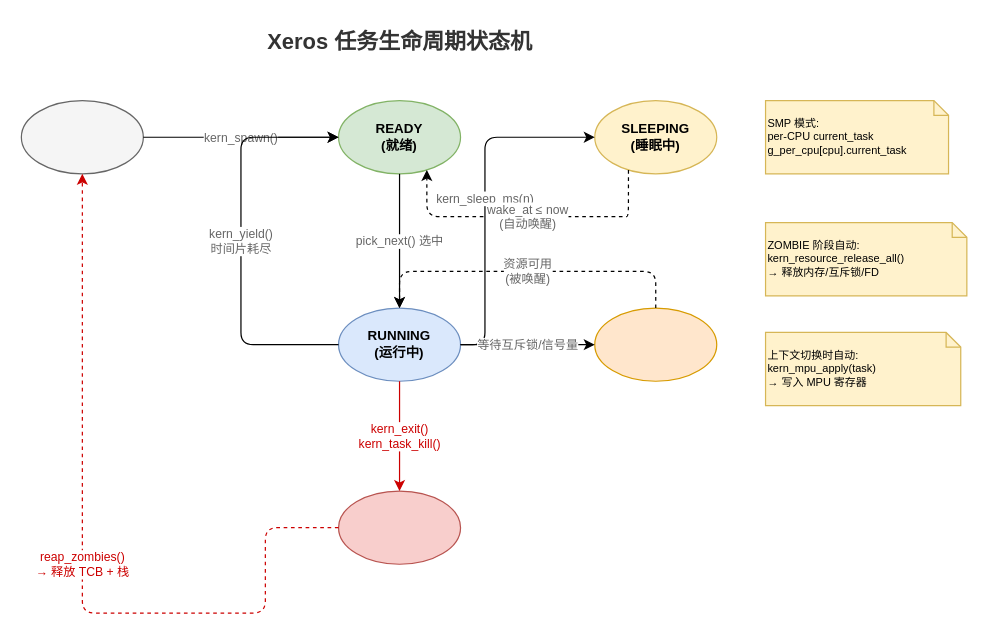
Some shapes in this 988 by 644 pixel diagram are drawn without their labels. Here are the shapes that lost their labels. From the top down, the centre of each, then its label:
At point 81,136: "INIT (初始化)".
At point 655,344: "BLOCKED (阻塞等待)".
At point 399,527: "ZOMBIE (僵尸/退出)".
